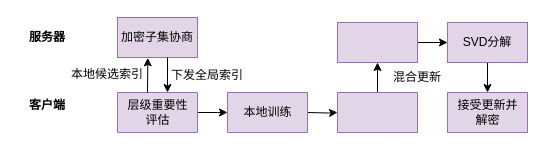
Some shapes in this 545 by 150 pixel diagram are drawn without their labels. Each missing label, with the box of its shape:
列置换与CKKS 加密: (336, 92, 418, 132)
明密文流分离: (336, 22, 418, 62)
